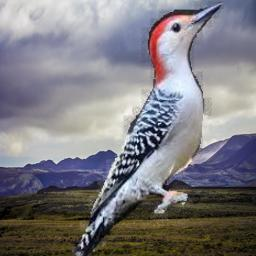Woodpecker: (70, 0, 224, 256)
